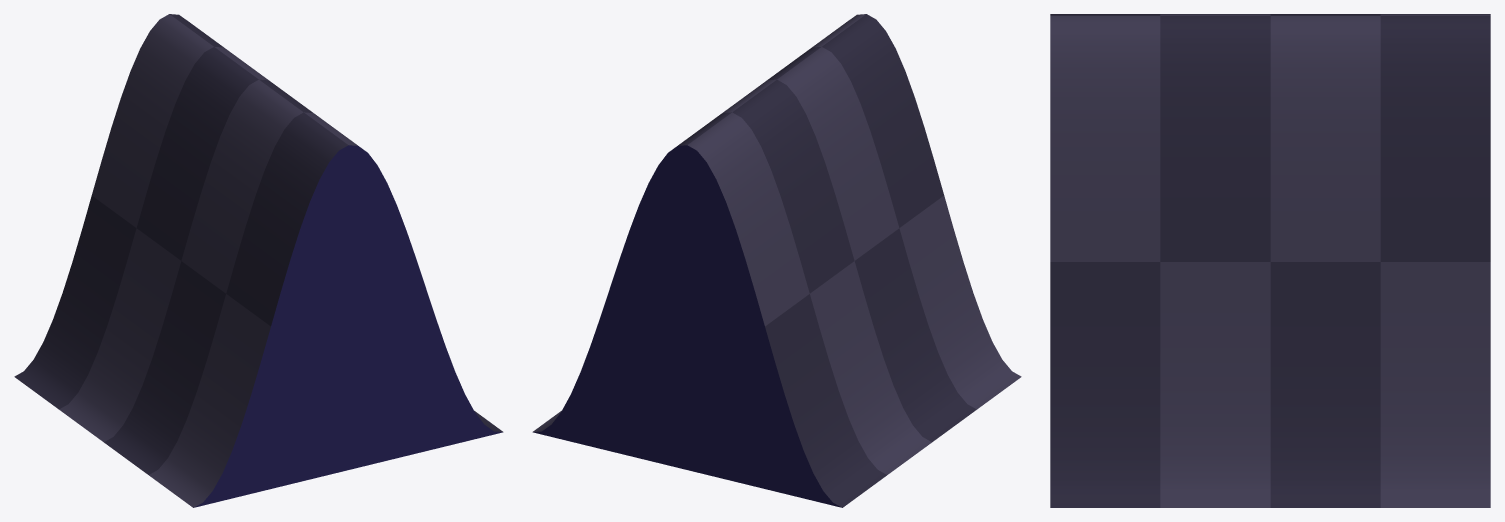
File: arch_dark.glb
3 renders of one model, left to right at view 1: azimuth 30°, elevation 25°; view 2: azimuth 150°, elevation 25°; view 3: azimuth 270°, elevation 25°, orthographic. The views are drawn at different scales.
Visible parts, largest first — view 1: Body; view 2: Body; view 3: Body.
Part boxes in pixels (bbox=[...]): Body: bbox=[14, 14, 503, 507]; Body: bbox=[532, 14, 1021, 507]; Body: bbox=[1050, 14, 1490, 507].
Bounding box in the file's own units: 1 × 1 × 1.
